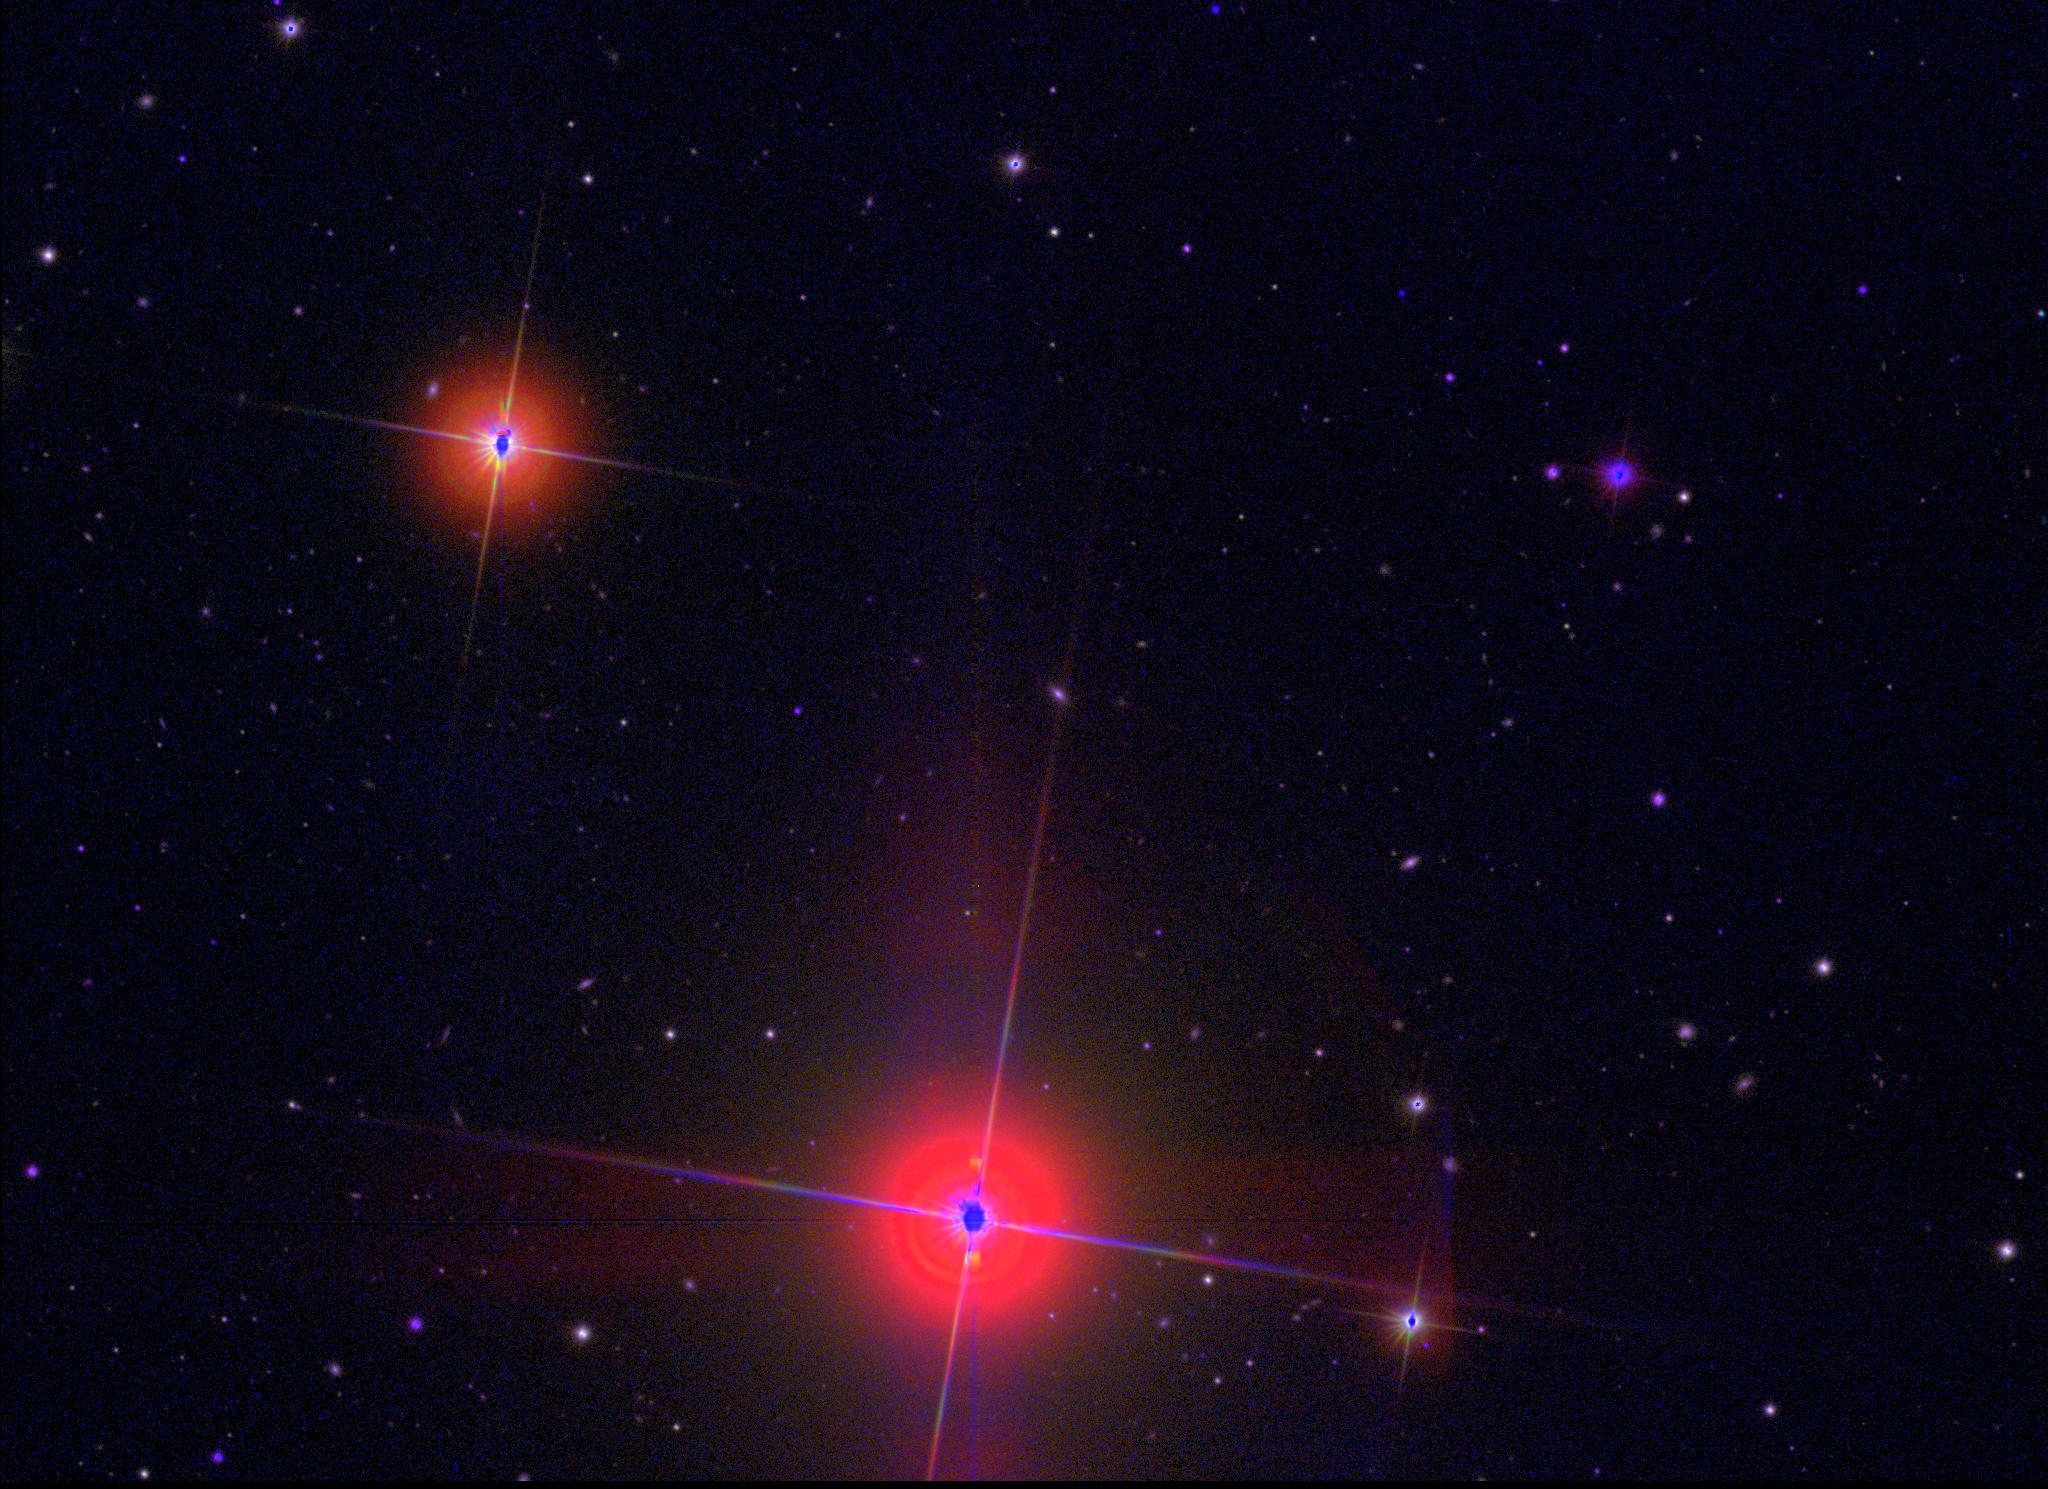L: (1394, 286, 1409, 301)
